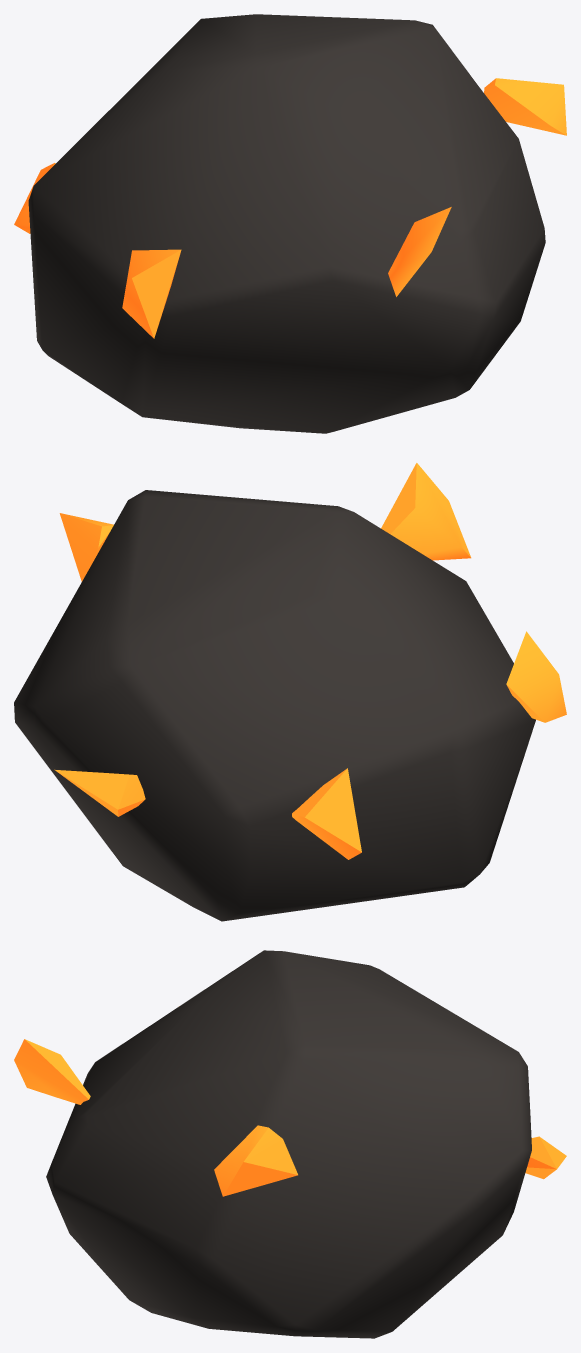
Rendered from res_ash_ore.glb.
3 renders of one model, top to bottom at view 1: azimuth 30°, elevation 25°; view 2: azimuth 150°, elevation 25°; view 3: azimuth 270°, elevation 25°, orthographic. The views are drawn at different scales.
Visible parts, largest first — view 1: res_ash_ore; view 2: res_ash_ore; view 3: res_ash_ore.
Part boxes in pixels (<box>): res_ash_ore: <box>14,14,566,433</box>; res_ash_ore: <box>14,463,566,921</box>; res_ash_ore: <box>14,950,566,1338</box>.
Size of the model in its own units: 0.1789 by 0.1369 by 0.1965.
